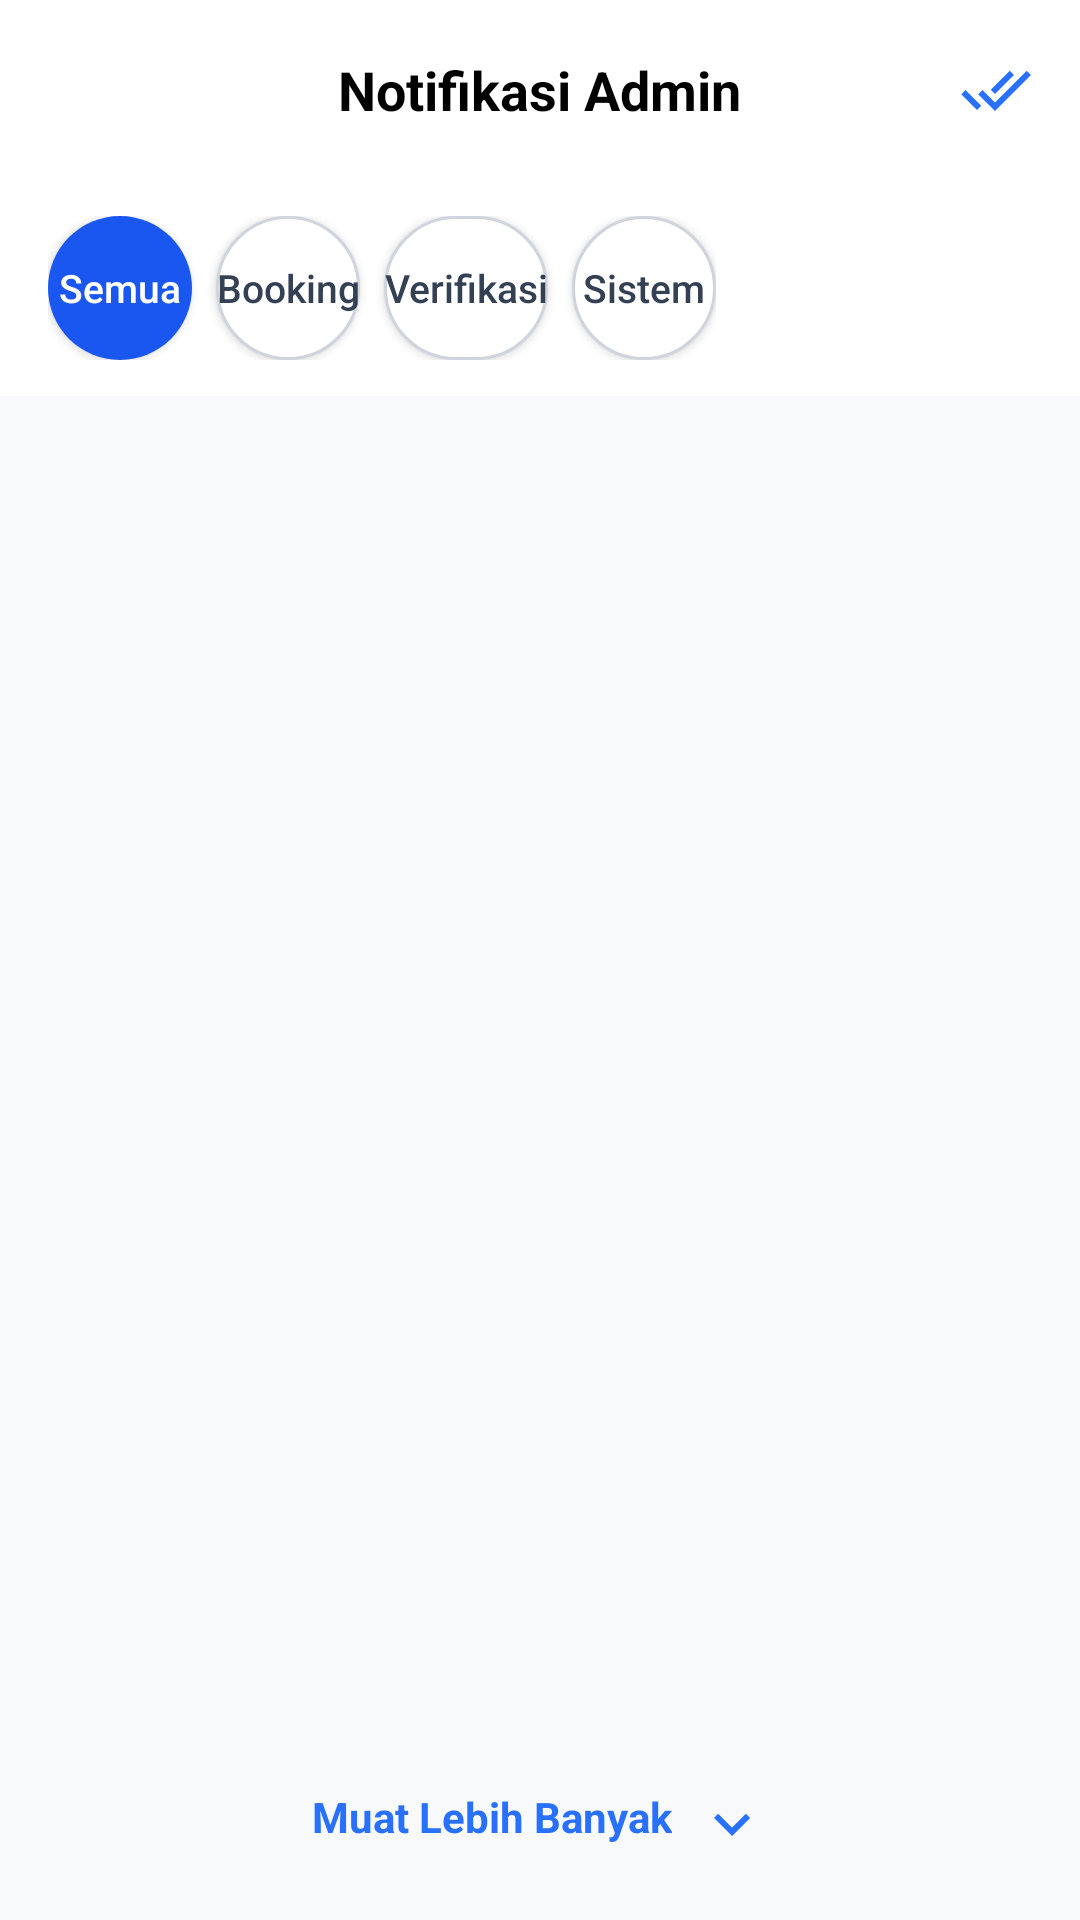

Point at icon controls on the screen. Image size 1080x1920, points as (x,y).
check all: (996,91)
